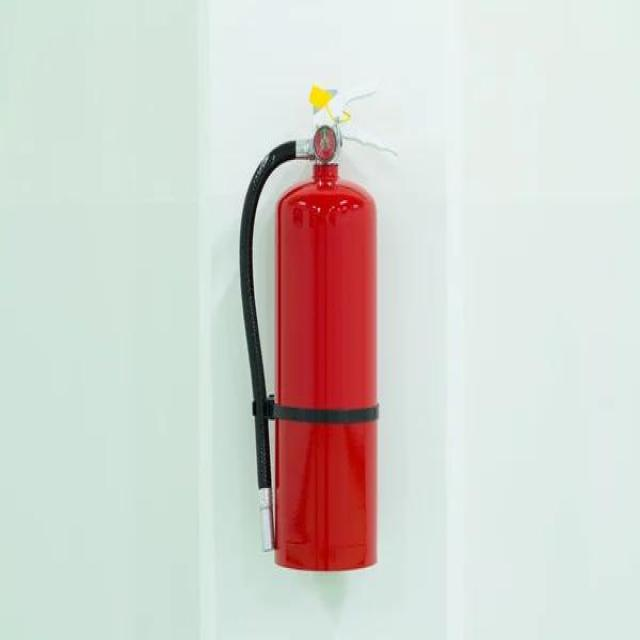fire_extinguisher: (235, 67, 410, 578)
